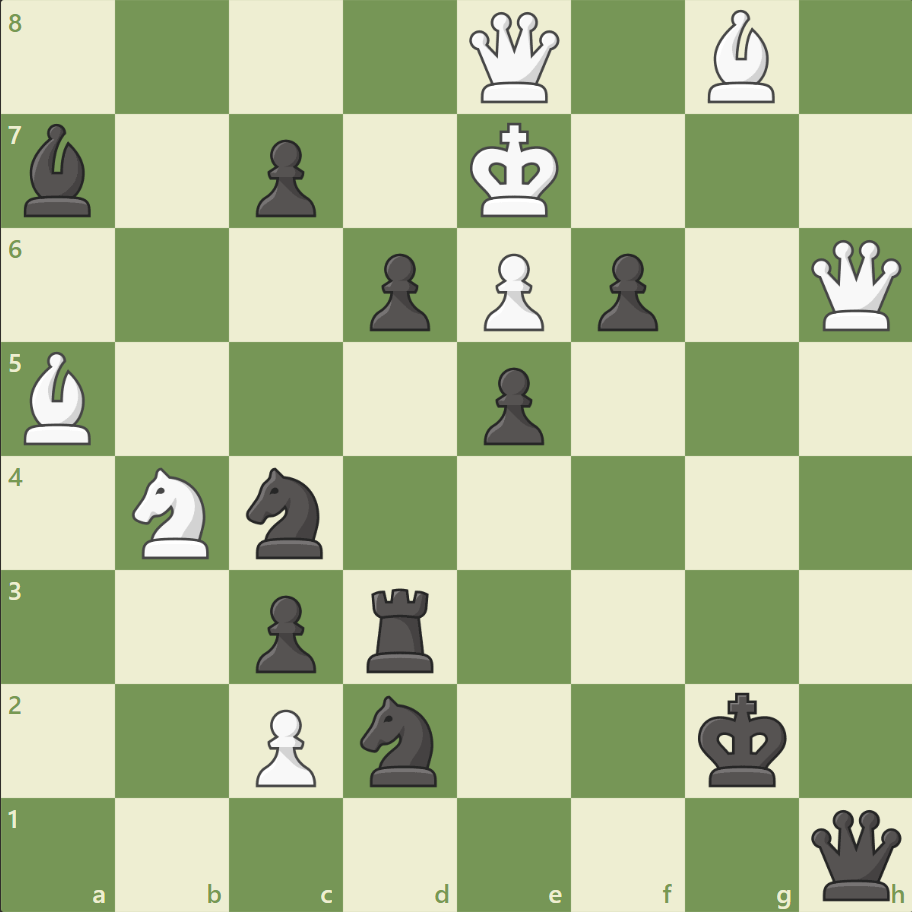B: (698, 6, 782, 109), (17, 347, 101, 449)
K: (465, 117, 565, 225)
N: (124, 461, 222, 564)
P: (474, 246, 549, 337), (247, 700, 322, 791)
Q: (464, 9, 563, 108), (805, 236, 904, 335)
b: (17, 120, 101, 222)
k: (692, 685, 792, 793)
n: (351, 688, 449, 791), (238, 461, 335, 564)
p: (247, 132, 322, 223), (474, 359, 549, 450), (247, 586, 322, 677), (361, 246, 435, 337), (588, 246, 662, 337)
q: (805, 804, 904, 903)
r: (360, 579, 442, 676)
